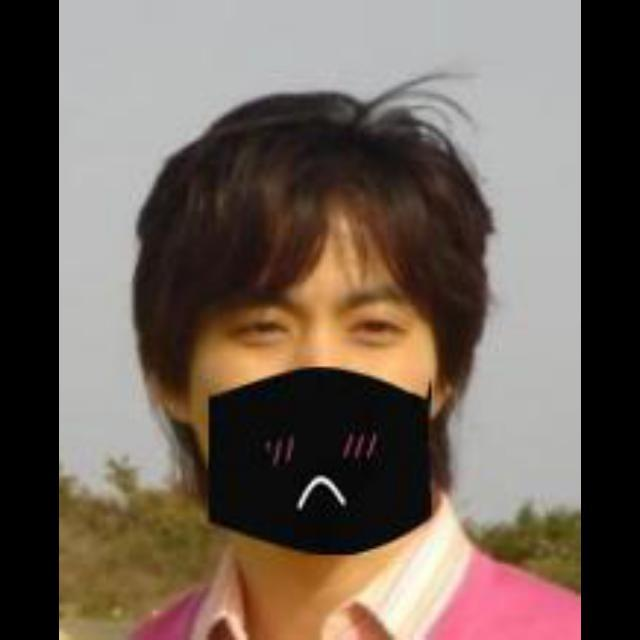suspicion: (160, 176, 486, 542)
